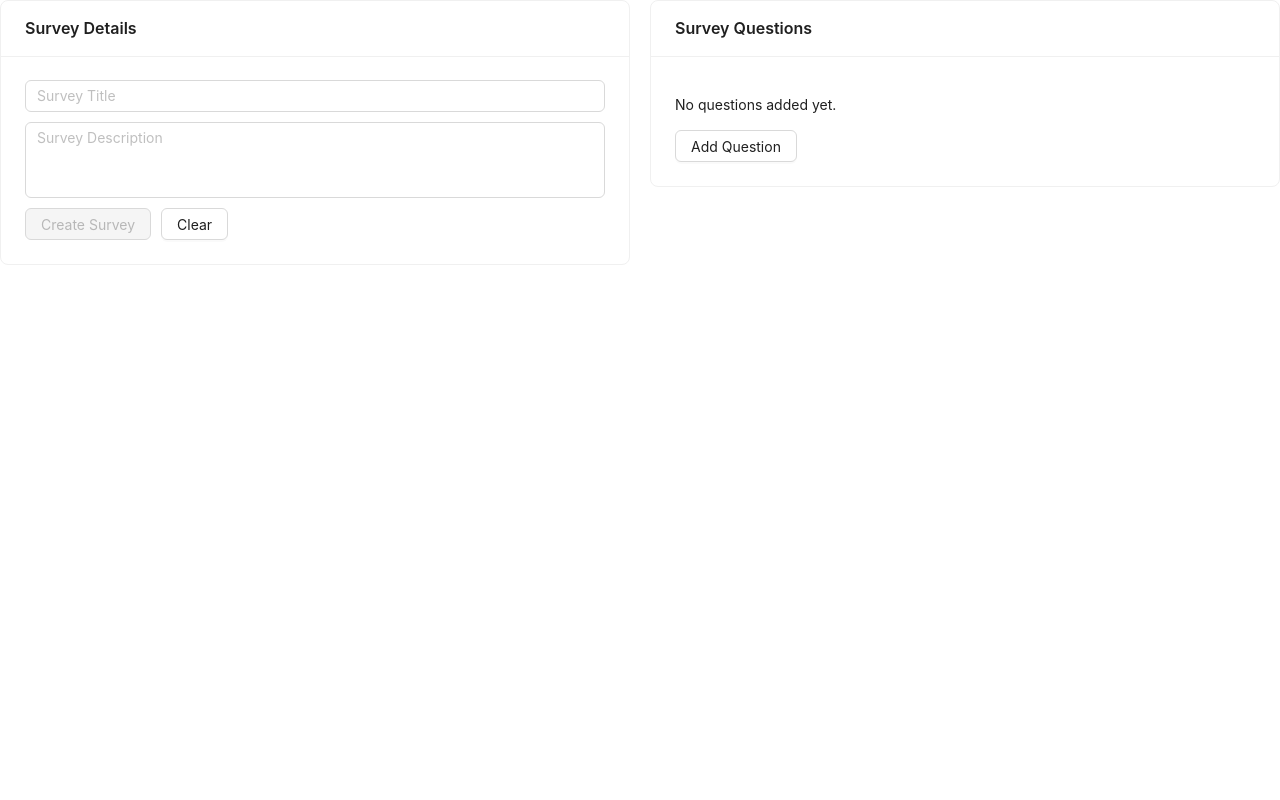
Test: CreateSurvey component › Cancel button closes modal
The width and height of the screenshot is (1280, 800).
Click the button "Add Question" at (736, 146), box [675,130,797,162]
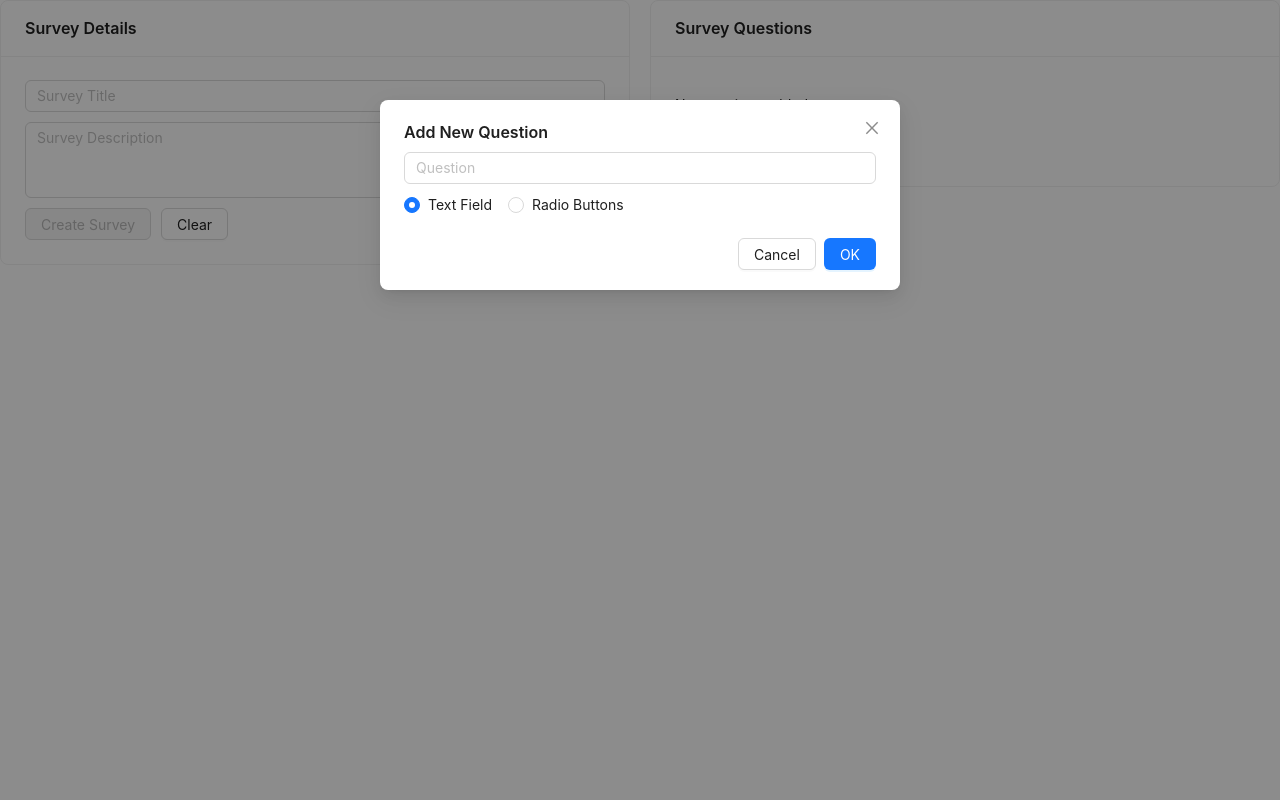
Click the button "Cancel" at (777, 254), box [738,238,816,270]
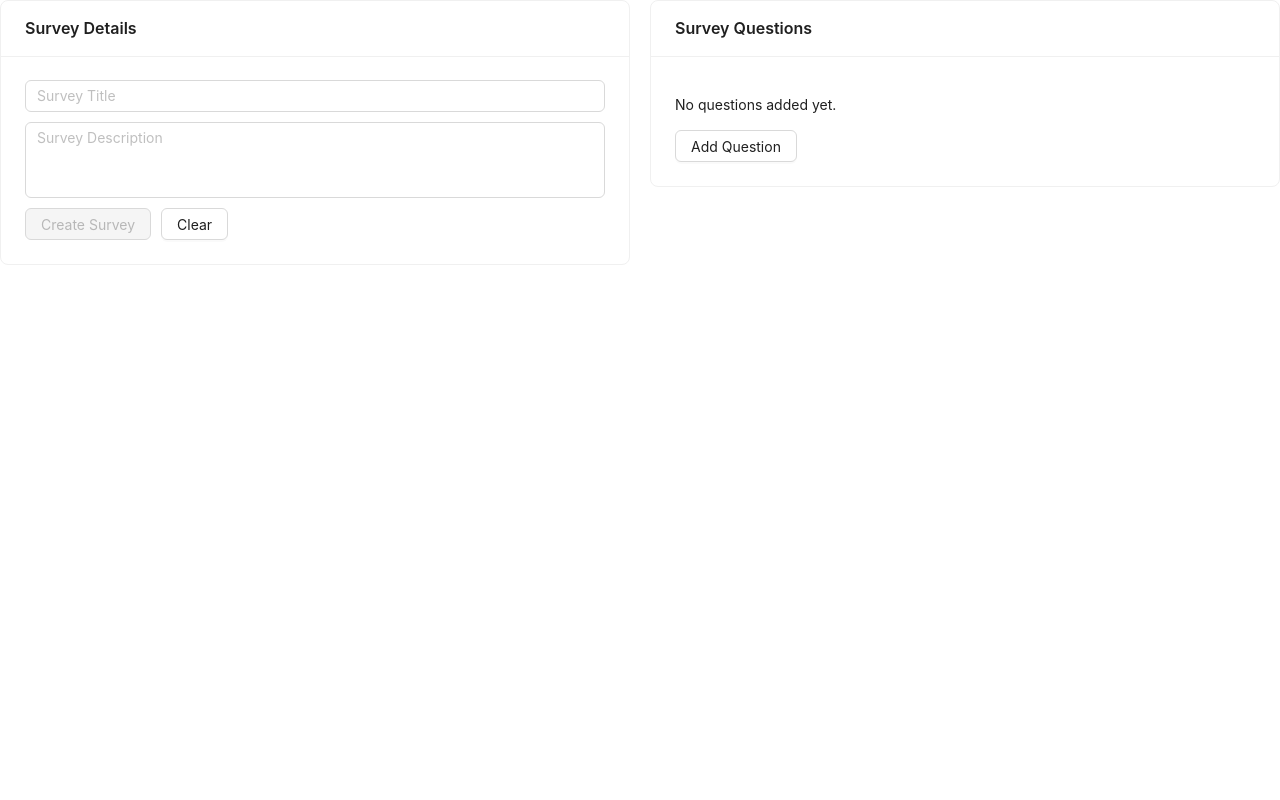
Result: the field "Add More Question" is gone
